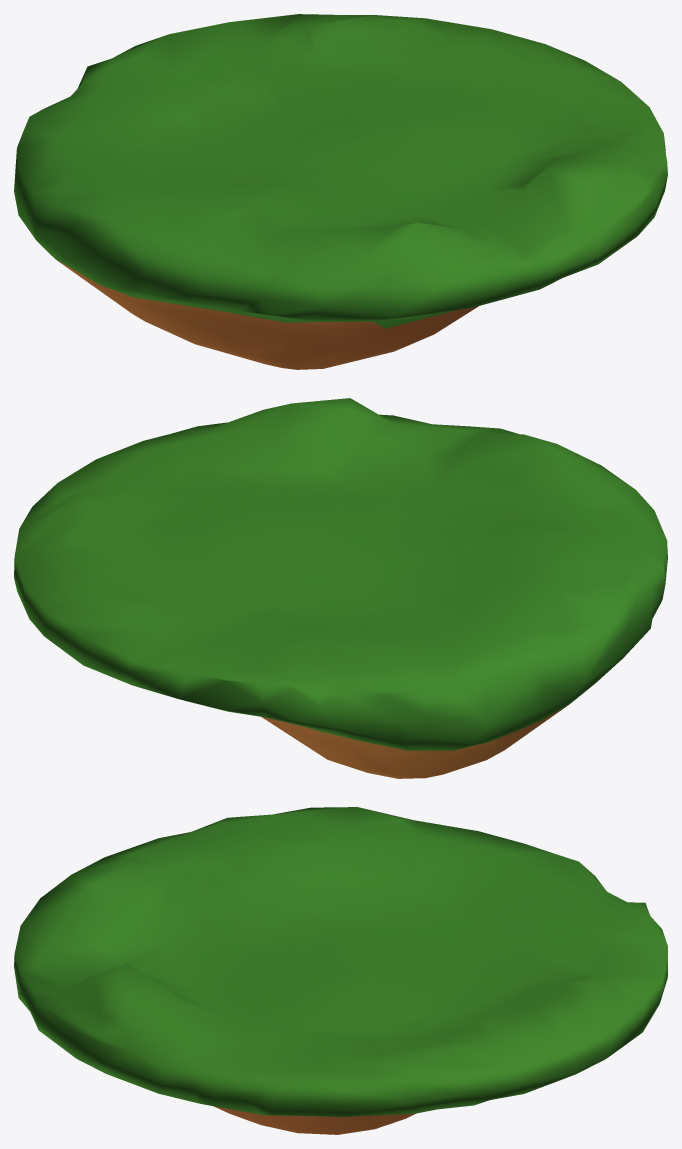
The model's file is Udo.fbx.
3 renders of one model, top to bottom at view 1: azimuth 30°, elevation 25°; view 2: azimuth 150°, elevation 25°; view 3: azimuth 270°, elevation 25°, orthographic.
Visible parts, largest first — view 1: Udo; view 2: Udo; view 3: Udo.
Boxes of the visible parts, <box> form: Udo: <box>14,14,667,369</box>; Udo: <box>14,398,667,778</box>; Udo: <box>14,807,667,1134</box>.
Size of the model in its own units: 3669 by 1389 by 3700.
1 material, 1 textured.
